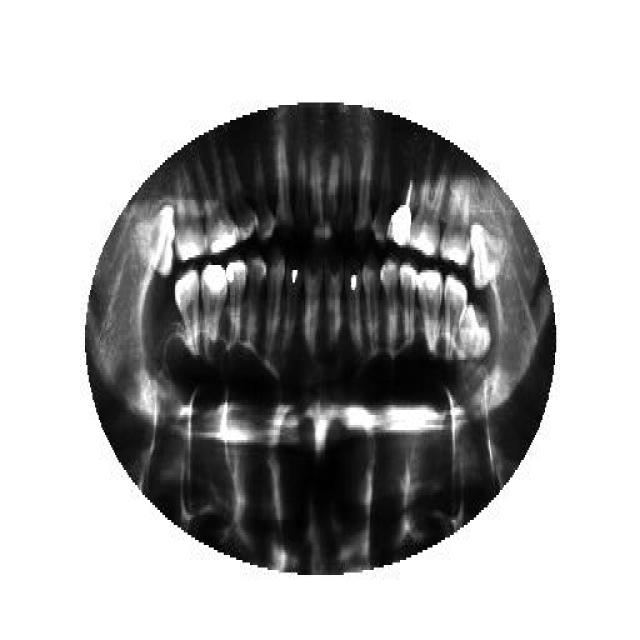Fillings: (200, 262, 228, 358), (348, 265, 362, 355), (286, 262, 300, 348)
Impacted Tooth: (131, 198, 175, 278), (470, 220, 511, 290)
Implant: (387, 170, 412, 248)
